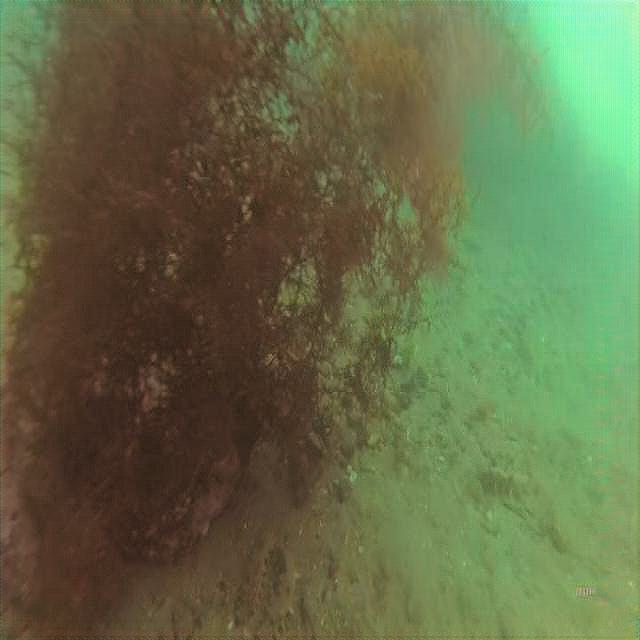holothurian: (302, 540, 337, 637), (236, 529, 268, 632), (268, 541, 300, 632), (479, 460, 540, 506)
